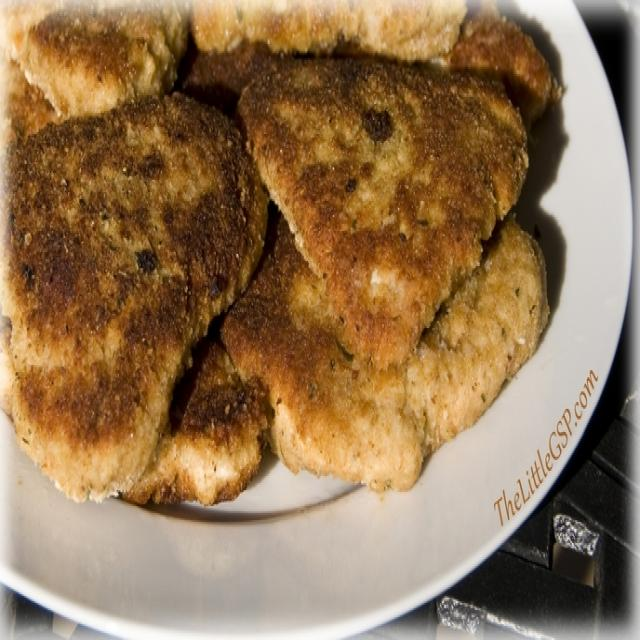鸡肉料理 含炸鸡: (4, 5, 583, 508)
